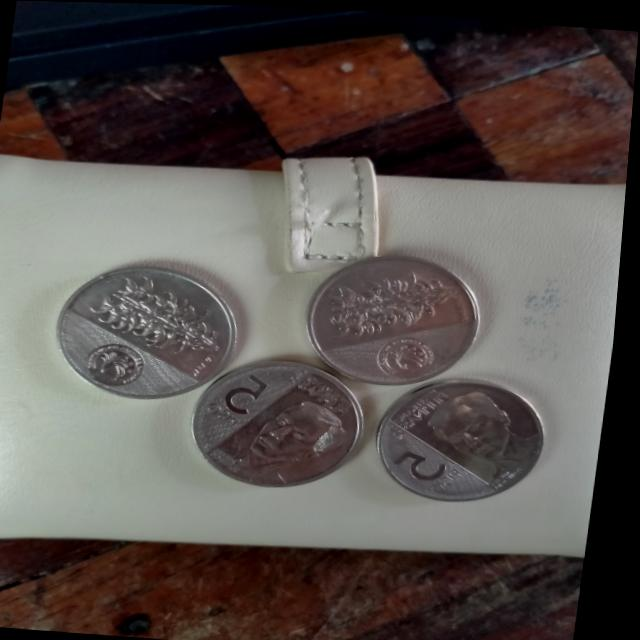5_New_Back: (93, 267, 244, 361), (316, 259, 473, 340)
5_New_Front: (200, 364, 295, 433), (396, 438, 488, 503)
